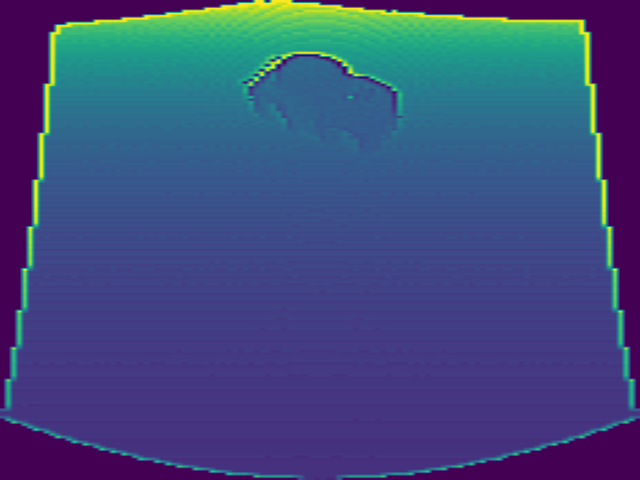car_0027: (244, 51, 403, 152)
